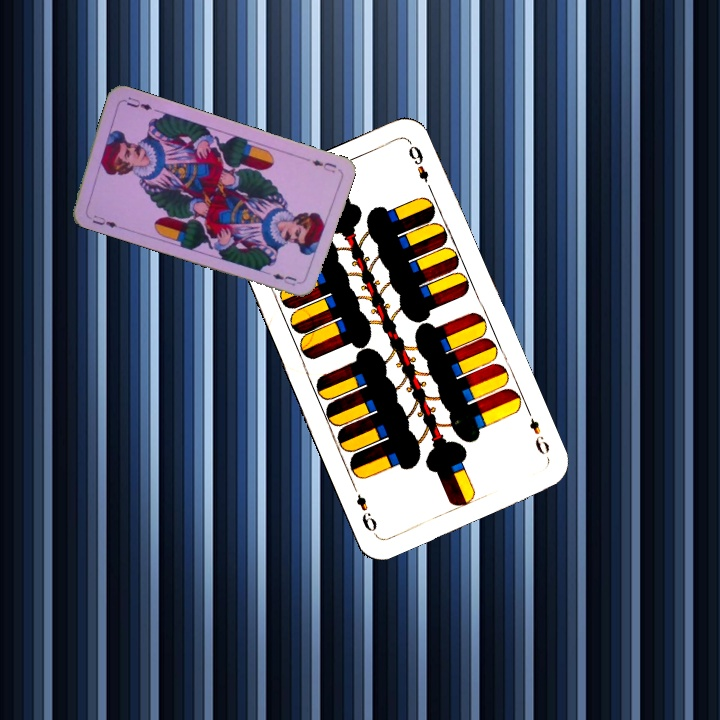E9: (525, 414, 552, 457)
EU: (83, 211, 123, 230), (308, 156, 339, 175)
